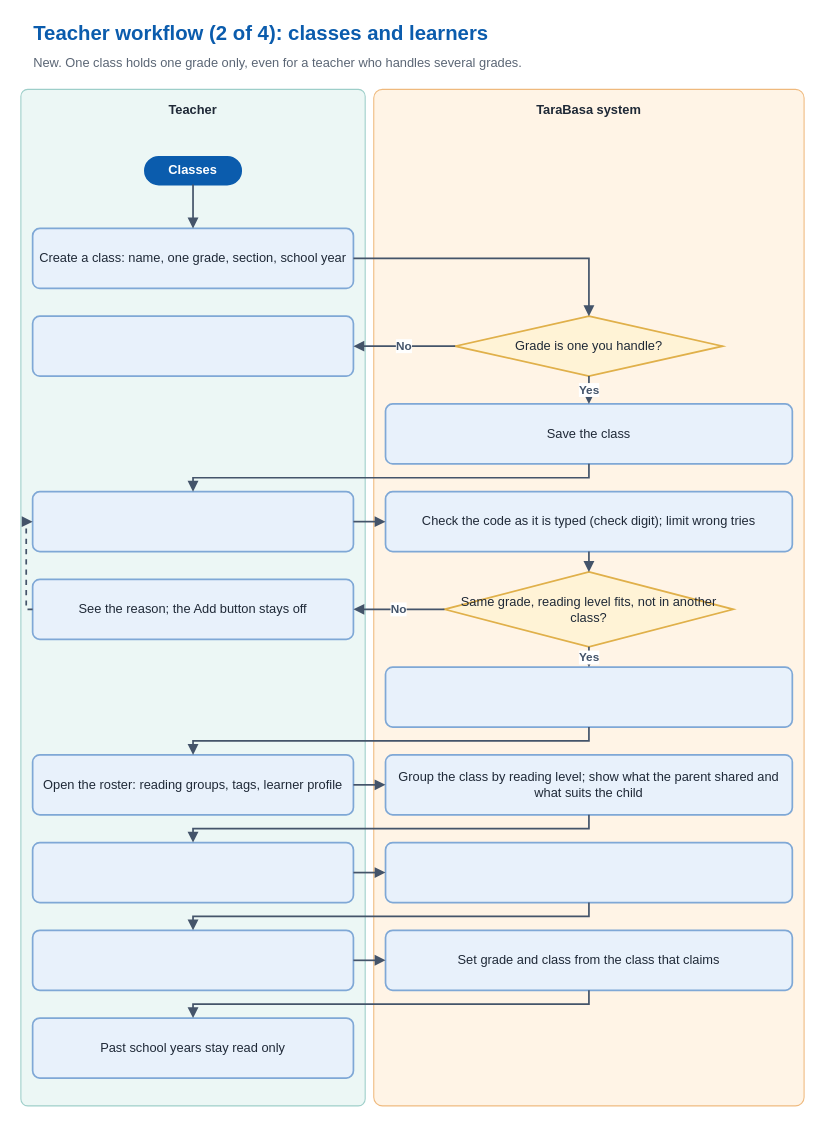
This 824x1125 diagram has some shape labels left out. The centre of each missing label's shape, as x and y in pixels:
"Add a learner: type the last 5 characters of the code, or scan the QR" belongs at [192,521].
"Add the child to the class; tell the parents" belongs at [588,696].
"Ask the Admin to add the grade (see Teacher workflow 1)" belongs at [192,345].
"Check the same rules again" belongs at [588,872].
"Move a learner to another class of the same grade" belongs at [192,872].
"Release a learner for promotion; claim a released learner" belongs at [192,960].
